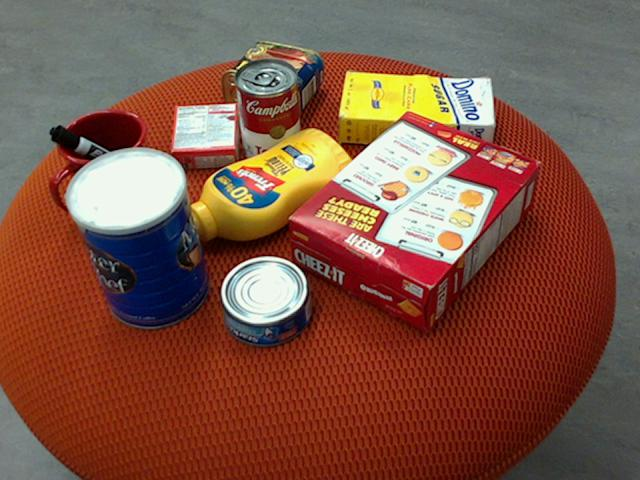cracker_box: (289, 110, 543, 330)
gelatin_box: (170, 101, 240, 170)
large_marker: (49, 124, 153, 188)
master_chef_can: (62, 147, 209, 329)
mug: (52, 109, 156, 216)
mustard_bottle: (175, 128, 358, 241)
potted_meat_can: (222, 41, 325, 123)
sugar_box: (339, 72, 497, 148)
tomato_soup_can: (235, 57, 301, 167)
tuna_fish_can: (220, 256, 313, 347)
